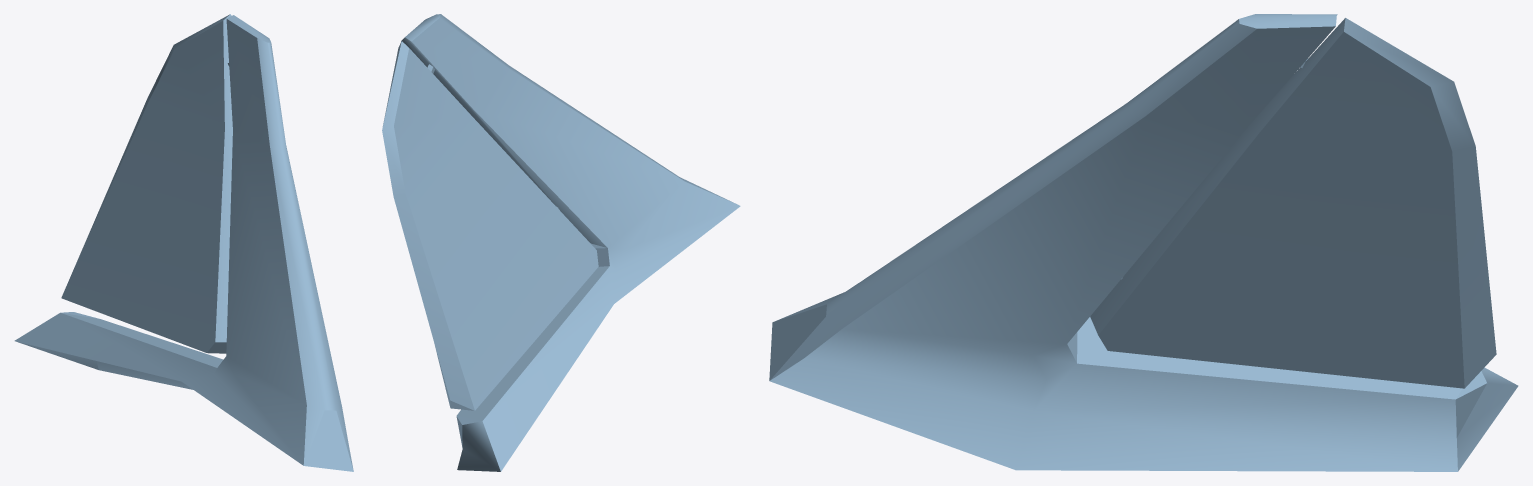
The model's file is keel dwn small L.FBX.
The picture shows the model from 3 angles, left to right: view 1: azimuth 30°, elevation 25°; view 2: azimuth 150°, elevation 25°; view 3: azimuth 270°, elevation 25°; orthographic projection. The views are drawn at different scales.
Parts seen in each view (by area): view 1: Group34; view 2: Group34; view 3: Group34.
Part boxes in pixels (x1,y1,x2,y2): Group34: [14, 14, 353, 471]; Group34: [382, 14, 740, 471]; Group34: [769, 14, 1518, 471].
Size of the model in its own units: 0.0262 by 0.0723 by 0.0555.
